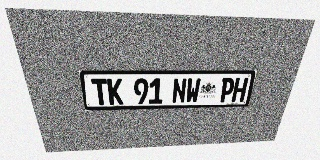1: (149, 78, 163, 104)
9: (134, 78, 148, 104)
H: (231, 78, 249, 102)
K: (107, 78, 123, 105)
N: (172, 78, 187, 103)
P: (218, 78, 236, 102)
T: (91, 78, 109, 105)
W: (185, 78, 201, 103)
